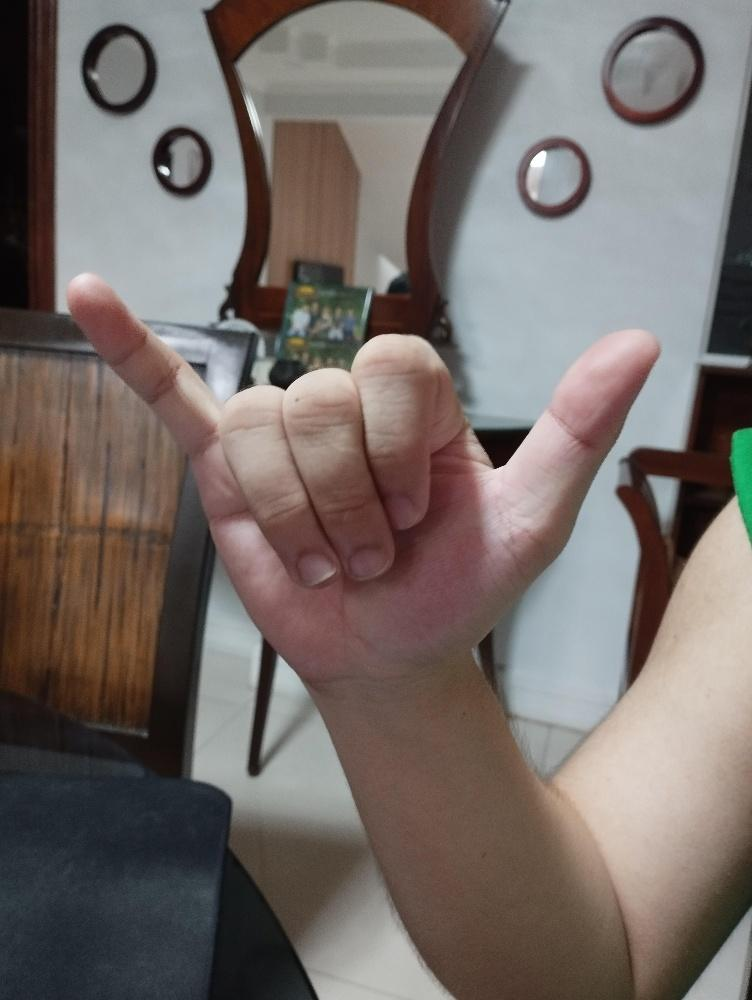y: (62, 267, 665, 690)
